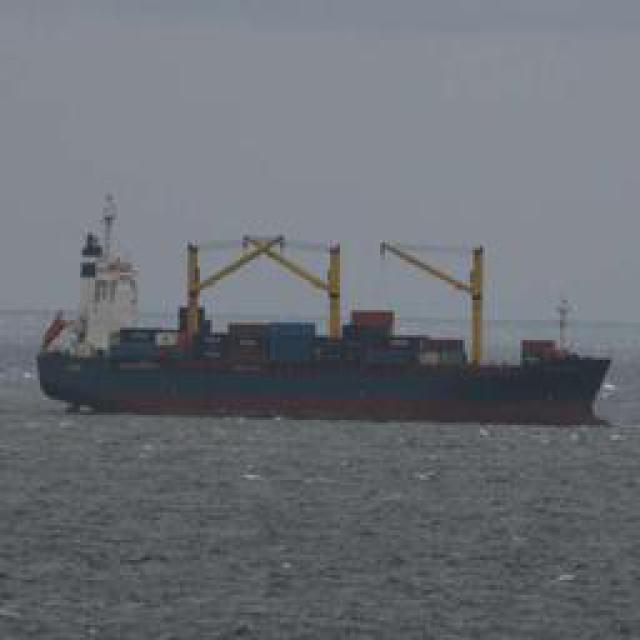Ship: (28, 281, 623, 426)
